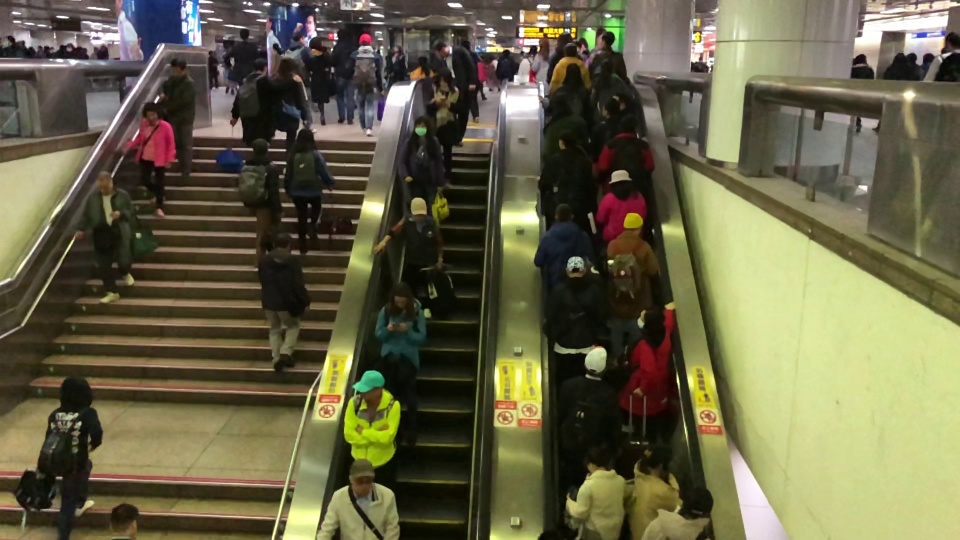person_head: (351, 369, 385, 402), (57, 374, 92, 406), (680, 486, 715, 517), (348, 458, 375, 497), (109, 501, 138, 536), (636, 304, 666, 333), (582, 444, 610, 472), (643, 443, 672, 470), (583, 345, 607, 375), (388, 281, 411, 307), (609, 168, 632, 194), (294, 127, 315, 151), (622, 212, 643, 234), (565, 256, 586, 278), (562, 63, 581, 87), (95, 169, 113, 194), (556, 129, 577, 150), (409, 197, 427, 221), (554, 93, 571, 118), (553, 202, 574, 222), (412, 114, 430, 137), (617, 113, 637, 133), (272, 231, 291, 252), (601, 97, 620, 118), (142, 101, 159, 122), (251, 137, 270, 155), (277, 56, 295, 74), (170, 56, 187, 75), (598, 59, 615, 78), (437, 68, 453, 88), (556, 32, 572, 49), (600, 32, 616, 49), (252, 57, 268, 73), (432, 40, 447, 56), (947, 34, 960, 51), (308, 36, 322, 51), (357, 32, 371, 46), (892, 52, 906, 65), (921, 52, 935, 64), (538, 38, 549, 53), (237, 28, 250, 40), (336, 29, 349, 41), (855, 52, 867, 64), (291, 31, 303, 42), (4, 36, 15, 47), (416, 55, 428, 64), (527, 46, 536, 56), (223, 40, 231, 50), (391, 45, 401, 53), (65, 43, 73, 52), (501, 49, 509, 57), (208, 49, 212, 57)
person_vbox: (35, 375, 104, 540), (372, 281, 428, 449), (73, 168, 138, 306), (373, 197, 445, 318), (604, 211, 659, 366), (256, 230, 310, 375), (541, 255, 605, 377), (617, 300, 677, 429), (314, 457, 400, 539), (283, 128, 336, 254), (557, 345, 617, 456), (123, 101, 176, 219), (341, 369, 401, 473), (237, 139, 284, 268), (565, 444, 627, 540), (591, 112, 655, 195), (532, 203, 595, 287), (628, 443, 681, 538), (432, 39, 477, 147), (535, 131, 592, 216), (158, 56, 196, 177), (398, 115, 445, 205), (594, 168, 647, 247), (229, 58, 276, 145), (639, 486, 714, 540), (871, 52, 920, 134), (273, 56, 311, 158), (427, 67, 460, 184), (349, 32, 384, 137), (283, 31, 316, 134), (540, 92, 587, 160), (588, 96, 647, 150), (538, 63, 592, 117), (331, 29, 355, 124), (308, 35, 332, 125), (591, 59, 631, 112), (850, 53, 875, 133), (546, 31, 582, 86), (589, 32, 627, 82), (922, 34, 960, 81), (531, 38, 555, 97), (232, 28, 257, 81), (222, 40, 237, 95), (517, 45, 537, 83), (496, 48, 517, 81), (390, 44, 406, 82), (409, 56, 434, 80), (207, 48, 220, 89), (2, 36, 22, 59), (919, 52, 935, 75)
